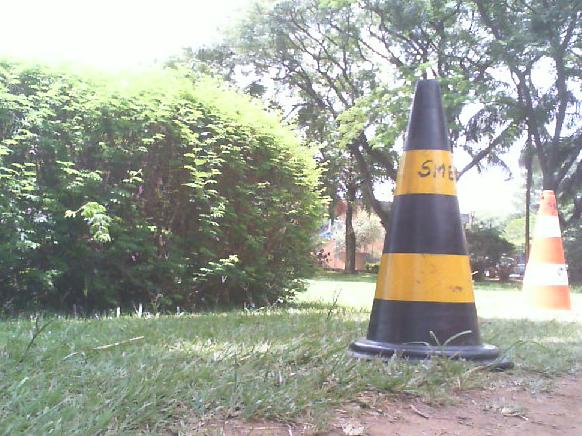0 cone: (346, 79, 516, 373), (518, 190, 576, 318)
